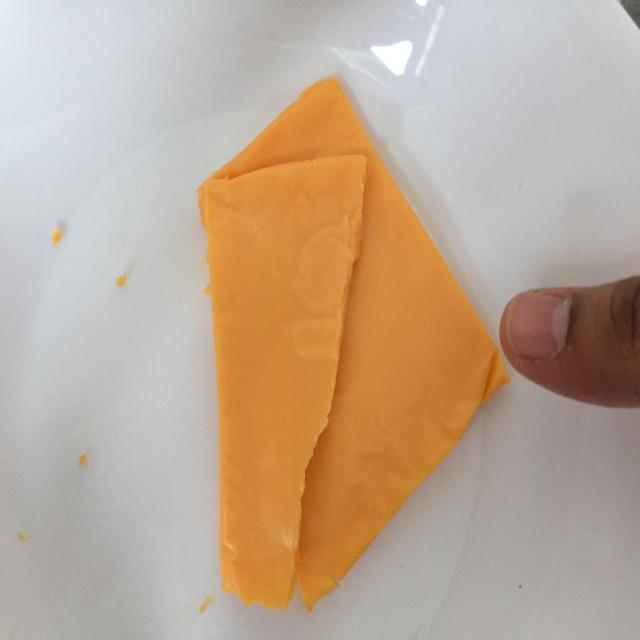Cheese: (192, 75, 498, 620)
Finger: (499, 282, 640, 411)
